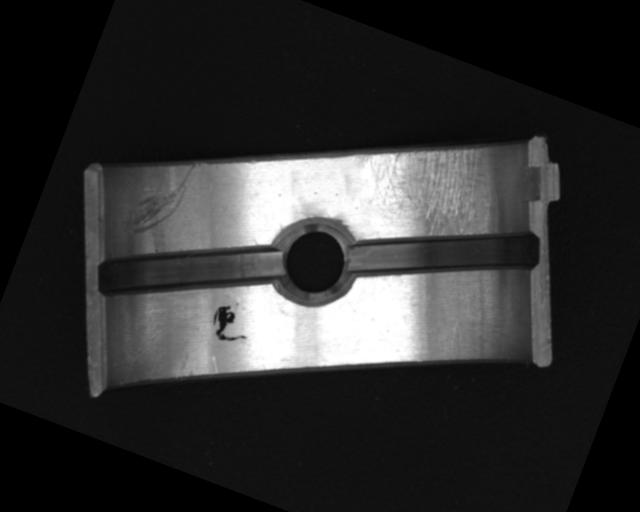blot: (205, 300, 256, 351)
gap: (343, 173, 552, 333), (87, 191, 291, 353)
hole: (263, 211, 365, 314)
nick: (120, 146, 197, 250)
scratch: (346, 109, 497, 246)
